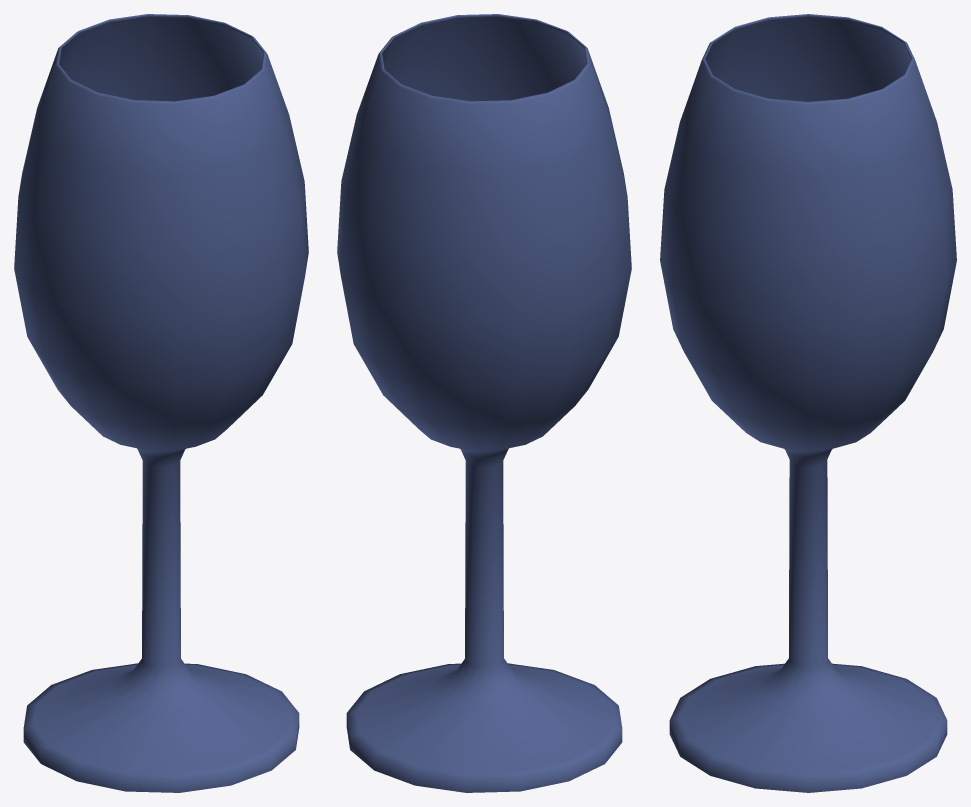
Rendered from Wine_Glass.glb.
The picture shows the model from 3 angles, left to right: view 1: azimuth 30°, elevation 25°; view 2: azimuth 150°, elevation 25°; view 3: azimuth 270°, elevation 25°; orthographic projection.
Parts seen in each view (by area): view 1: huitugou_2062_392; view 2: huitugou_2062_392; view 3: huitugou_2062_392.
Boxes of the visible parts, box(x1,y1,x2,y2) form: huitugou_2062_392: box(14, 14, 308, 792); huitugou_2062_392: box(337, 14, 631, 792); huitugou_2062_392: box(660, 14, 956, 792).
Bounding box in the file's own units: 0.0557 × 0.1399 × 0.0557.
